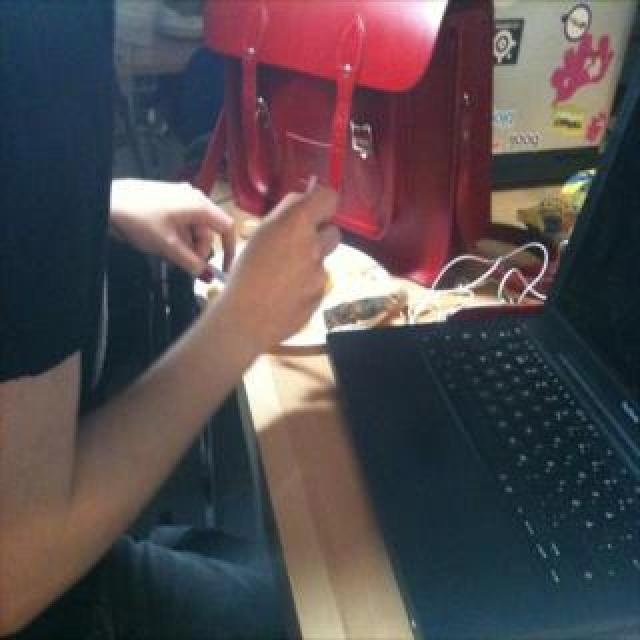laptop_computer: (326, 12, 638, 640)
